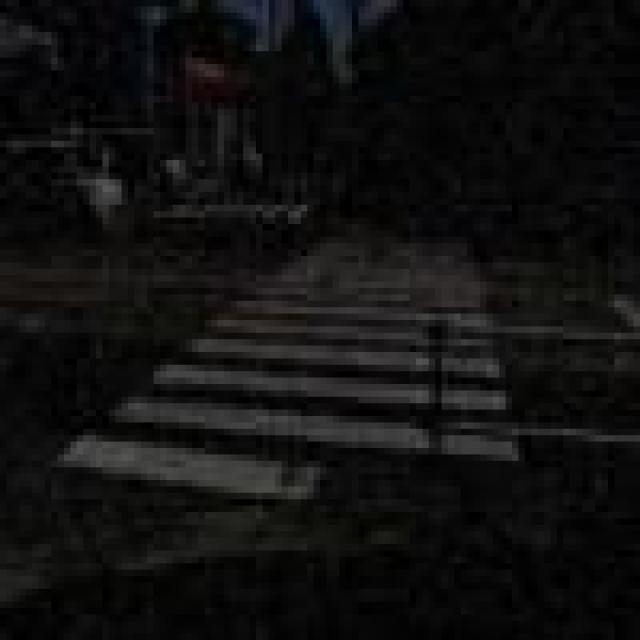crosswalk: (56, 230, 524, 498)
